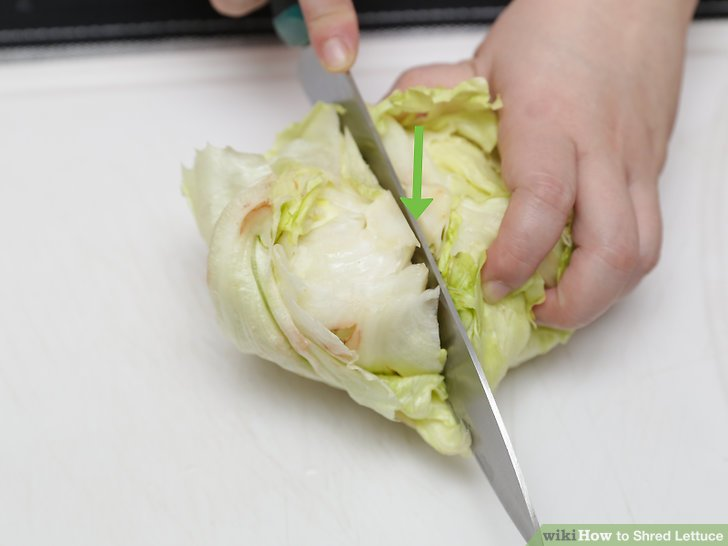chopped lettuce: (200, 101, 546, 418)
